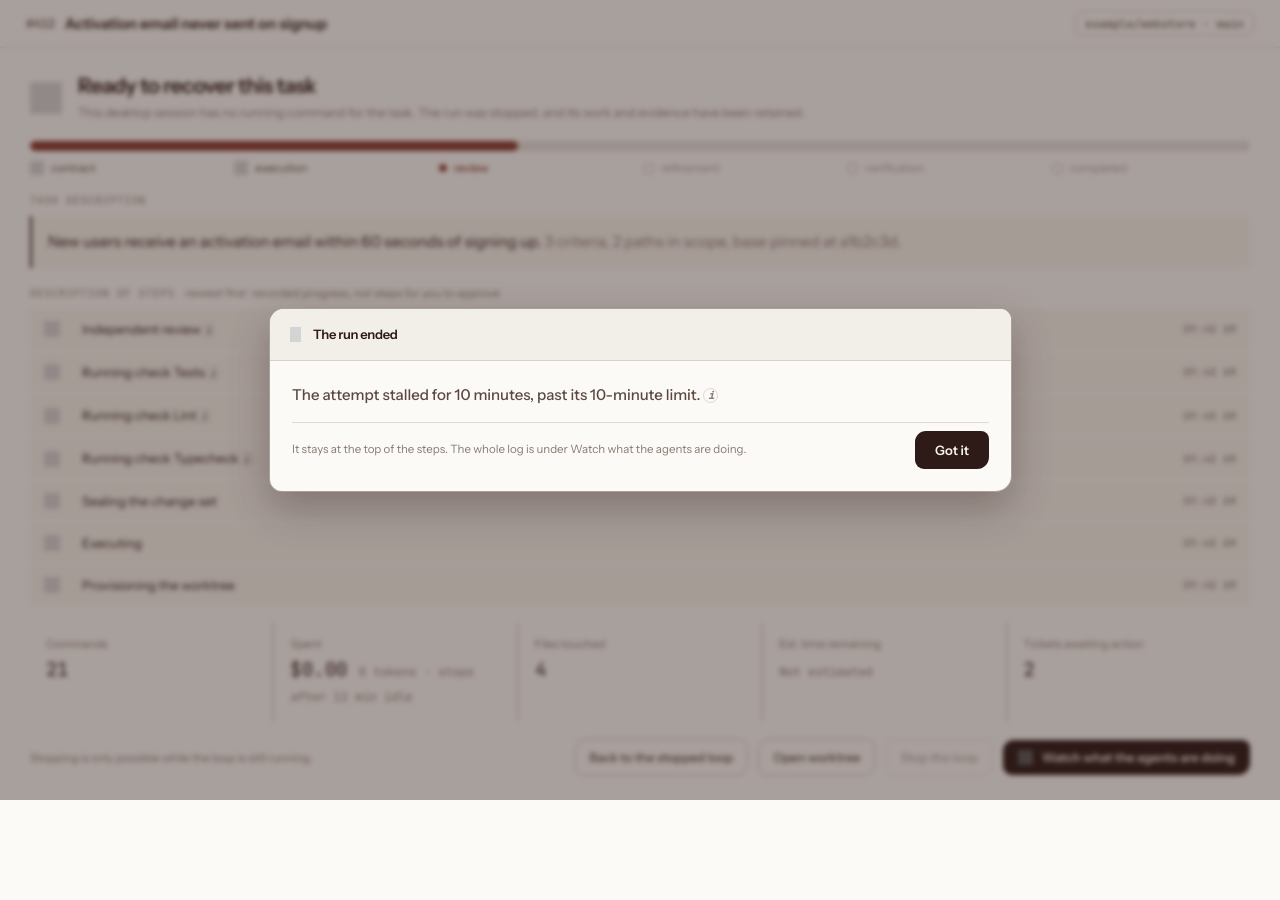
Test case: what ended the run › says what ended a run in a card, with the fuller reason behind the i, and keeps it at the top of the steps once confirmed
Check: the text "The attempt stalled for 10 minutes, past its 10-minute limit." is shown, box [292, 385, 700, 404]
Step 1. Click the button named "Why the run ended" → (710, 396), box [703, 388, 718, 403]
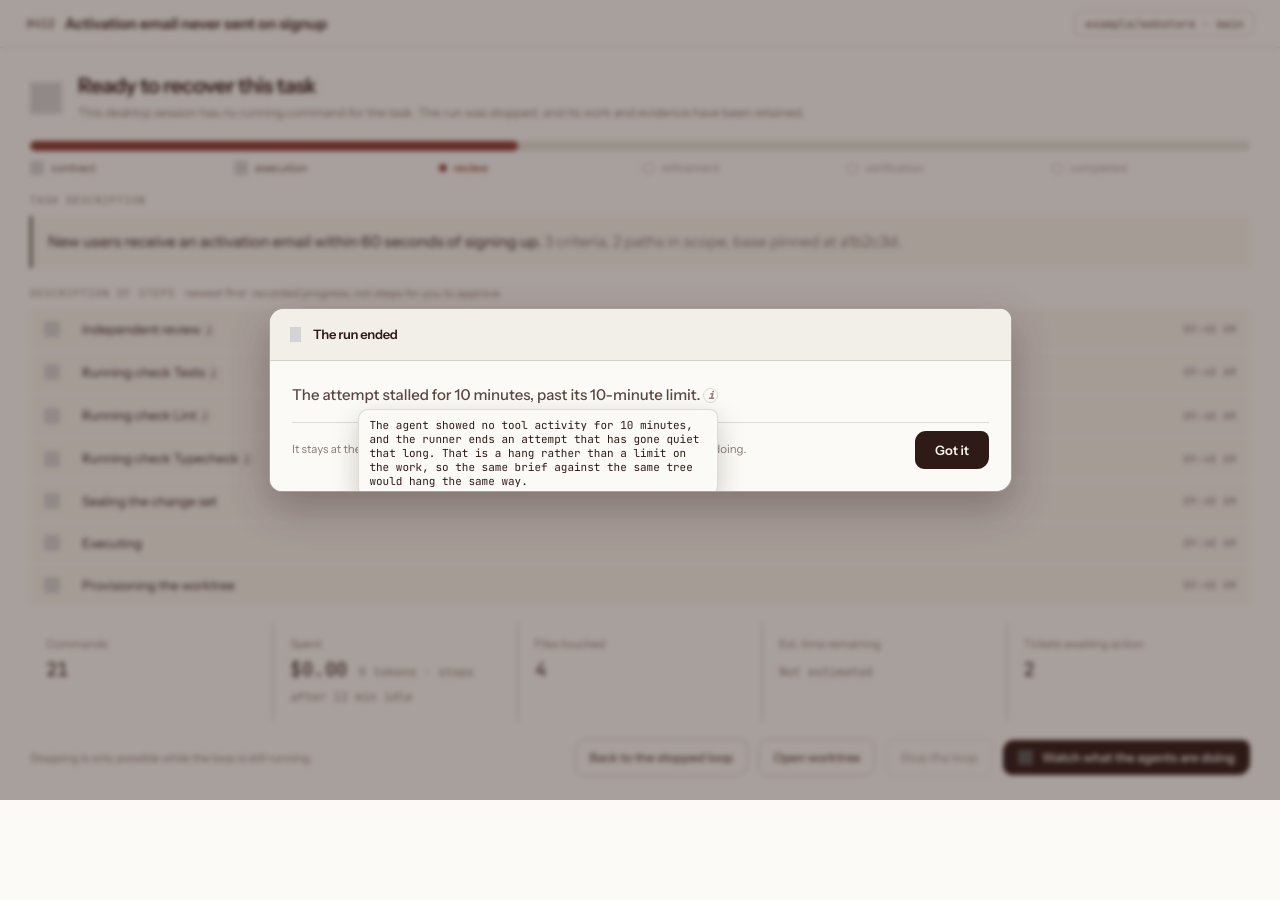
Step 2. Click the button "Got it" → (952, 450), box [915, 431, 988, 469]
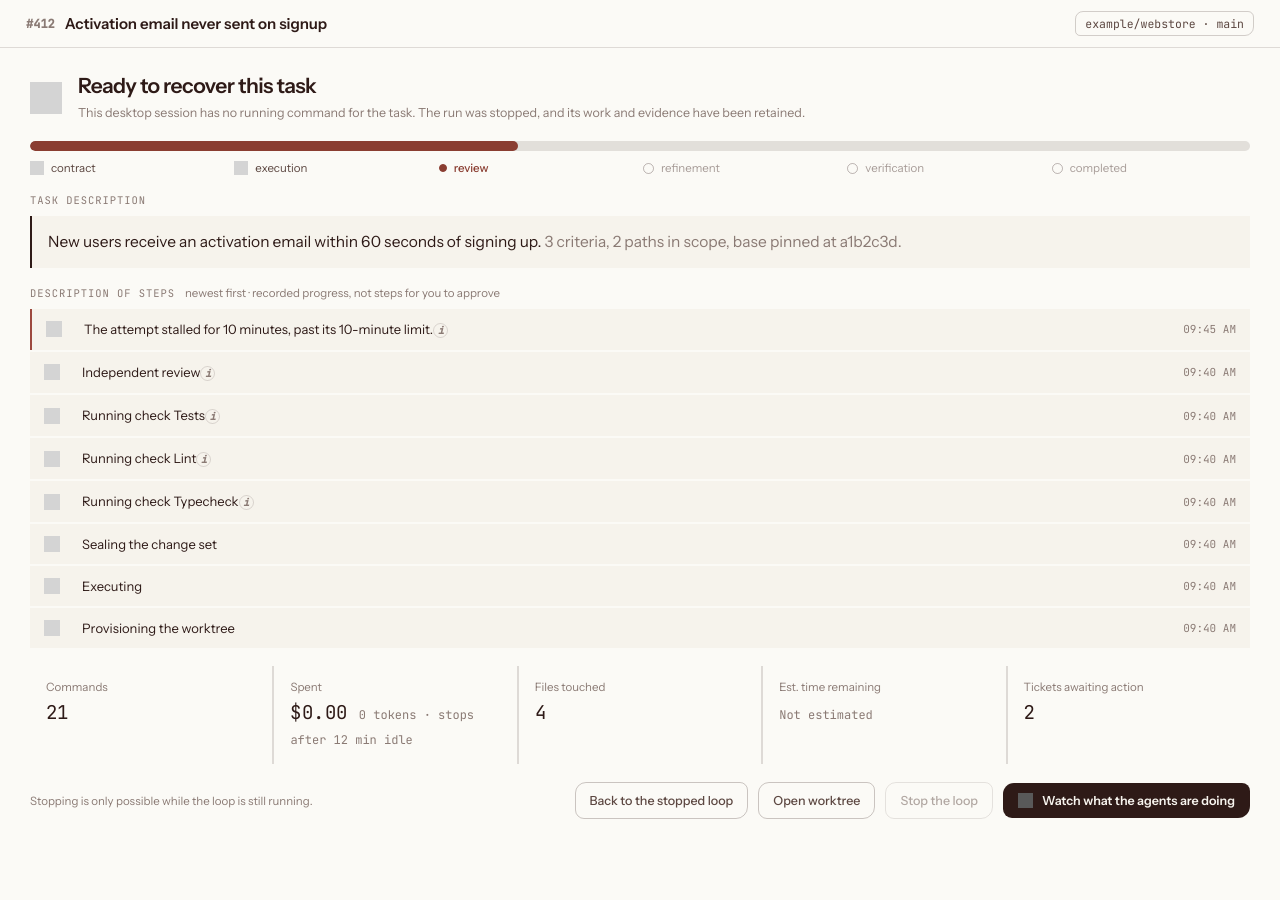
Check: the heading "The run ended" is gone
